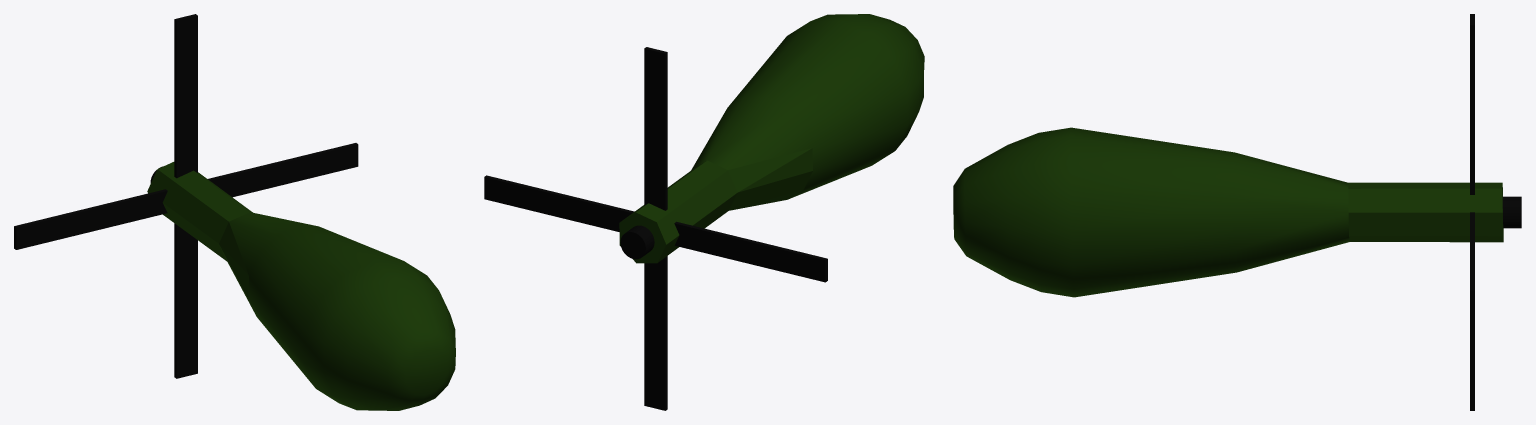
The model's file is Bomb.fbx.
3 renders of one model, left to right at view 1: azimuth 30°, elevation 25°; view 2: azimuth 150°, elevation 25°; view 3: azimuth 270°, elevation 25°, orthographic. The views are drawn at different scales.
Parts seen in each view (by area): view 1: Charge; view 2: Charge; view 3: Charge.
Part boxes in pixels (box(x1,y1,x2,y2)): Charge: box(14, 14, 455, 410); Charge: box(484, 14, 924, 410); Charge: box(953, 14, 1521, 410).
Bounding box in the file's own units: 3 × 3 × 4.01.
